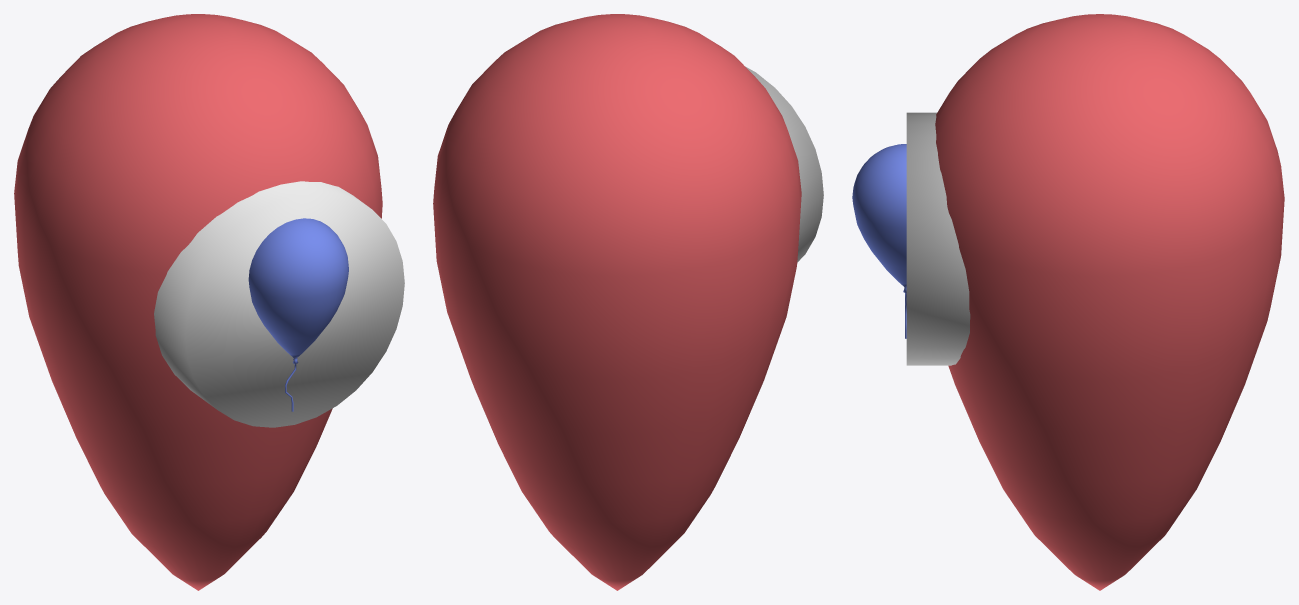
File: eventPin.glb
The picture shows the model from 3 angles, left to right: view 1: azimuth 30°, elevation 25°; view 2: azimuth 150°, elevation 25°; view 3: azimuth 270°, elevation 25°; orthographic projection.
Visible parts, largest first — view 1: pin, Cylinder.001, balloon; view 2: pin, Cylinder.001; view 3: pin, Cylinder.001, balloon.
Part boxes in pixels (bbox=[...]): pin: bbox=[14, 14, 382, 590]; Cylinder.001: bbox=[154, 181, 404, 427]; balloon: bbox=[248, 218, 348, 411]; pin: bbox=[433, 14, 801, 590]; Cylinder.001: bbox=[745, 66, 823, 262]; pin: bbox=[935, 14, 1284, 590]; Cylinder.001: bbox=[906, 112, 970, 365]; balloon: bbox=[852, 144, 906, 338].
Size of the model in its own units: 0.2435 by 0.4072 by 0.285.
